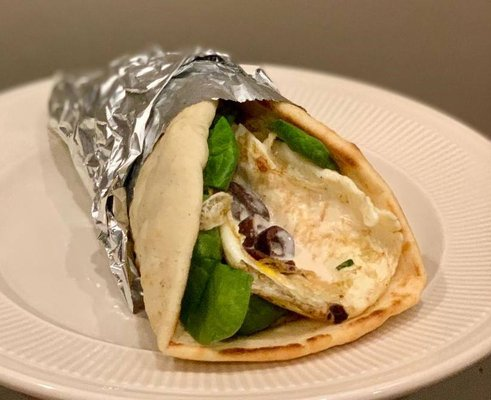soup: (43, 43, 415, 365)
